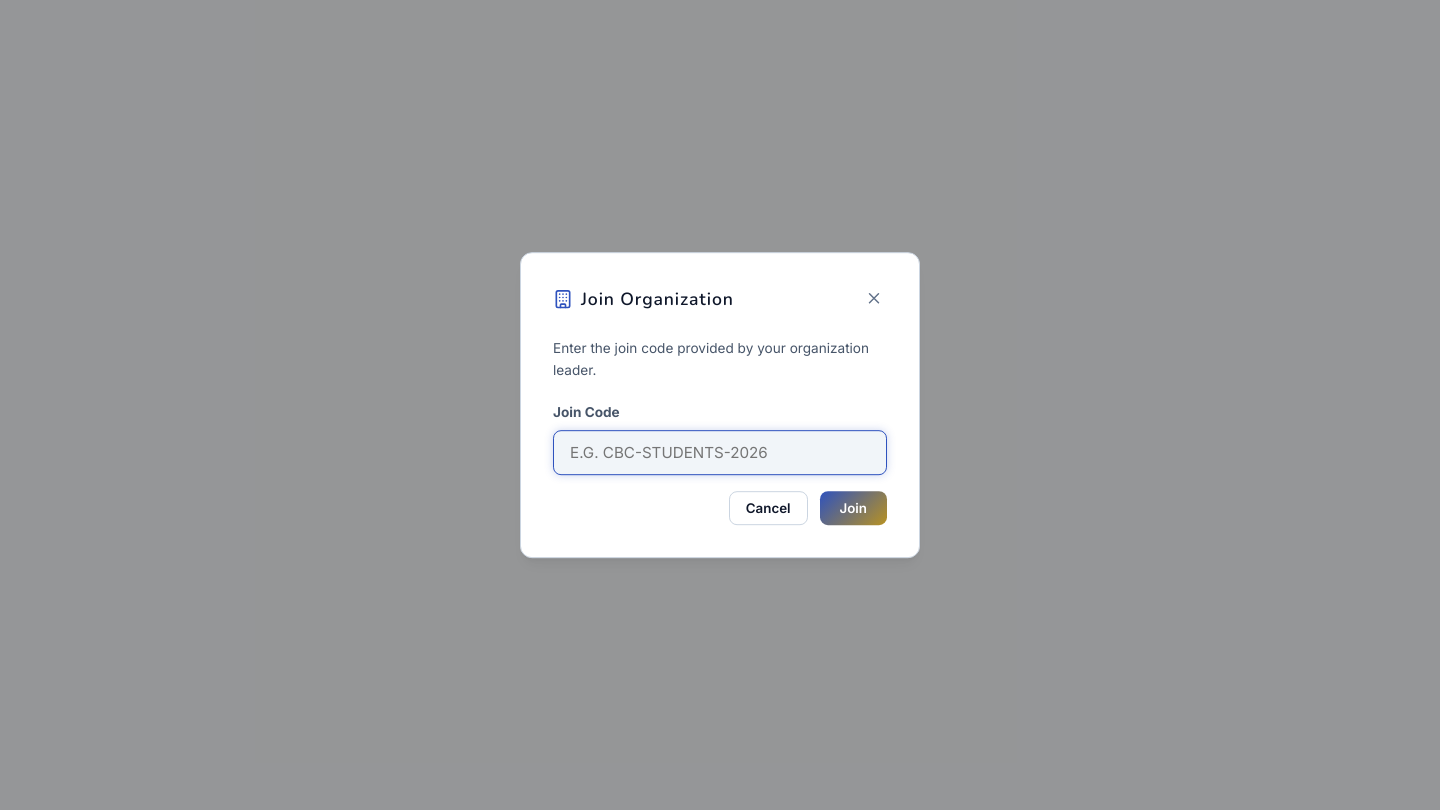
Scenario: JoinOrgModal › shows error message on invalid code
Step 1. Type "BAD-CODE" into the field labelled "Join Code" → (720, 452), box [553,430,887,475]
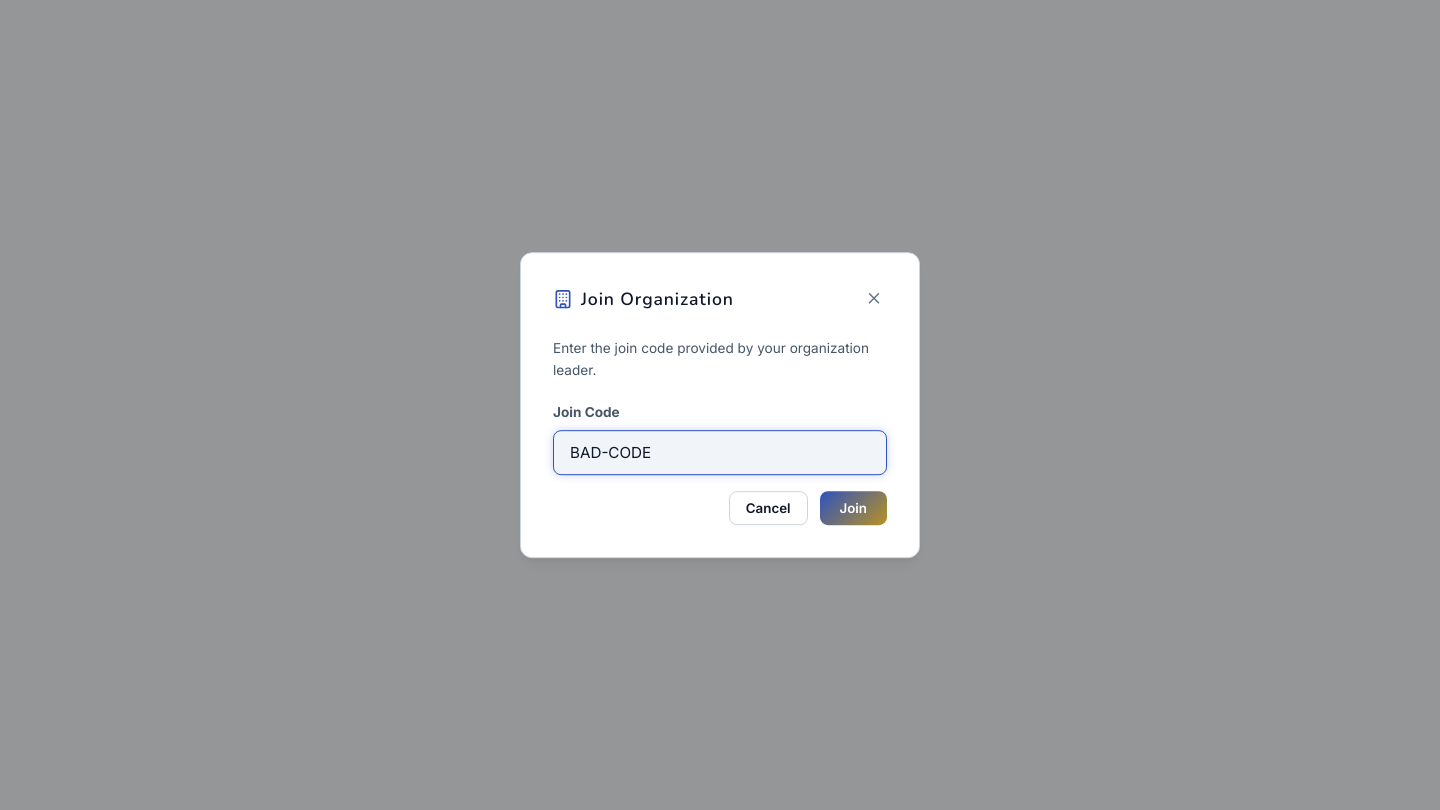
Step 2. Click the button "Join" → (853, 508), box [820,491,887,525]
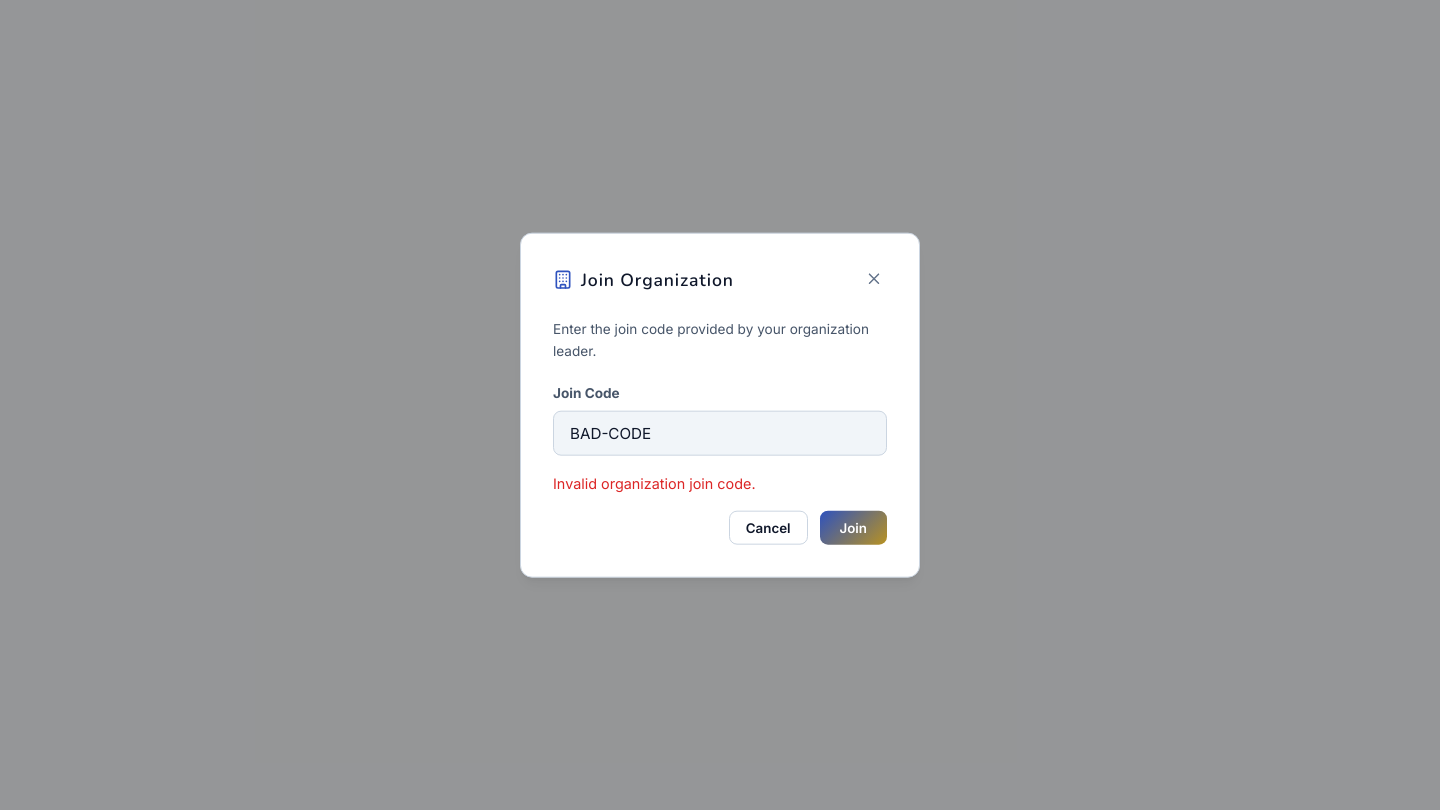
Now the text "Invalid organization join code." is shown, box [553,474,756,491]
